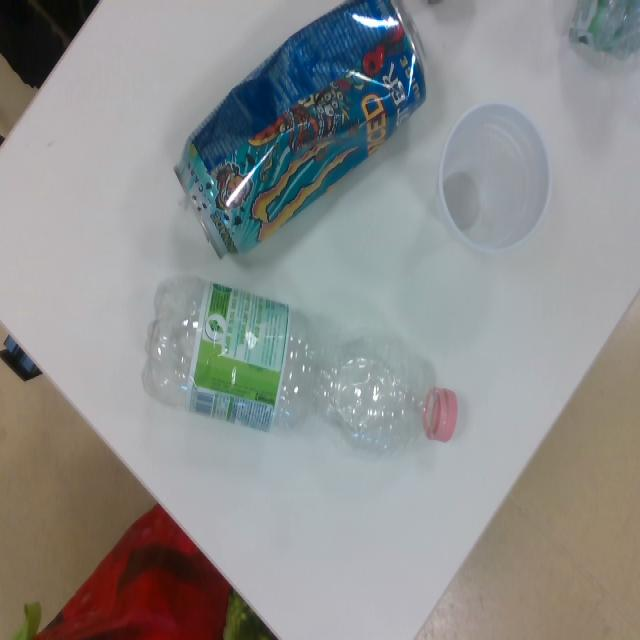aluminum: (173, 0, 426, 256)
plastic: (146, 268, 464, 458), (439, 95, 552, 260)
